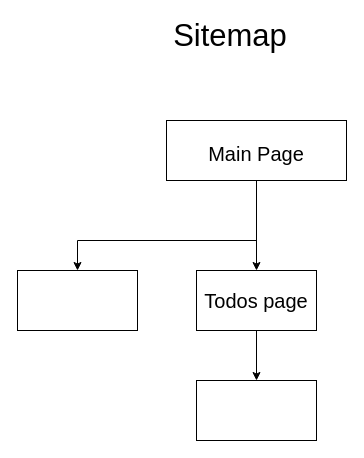
Image size: 364x458. Some labels were removed from this diagram. The centre of each missing label's shape, as x and y in pixels:
"Auth page" goes at (x=77, y=300).
"Todo page" goes at (x=256, y=410).
